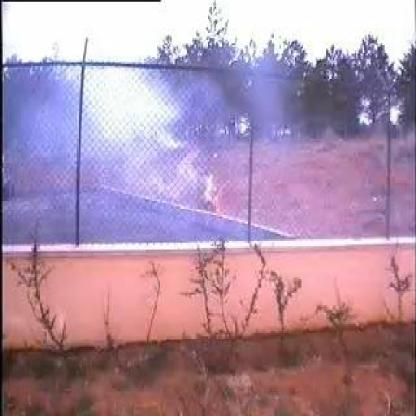-: (50, 68, 240, 239)
